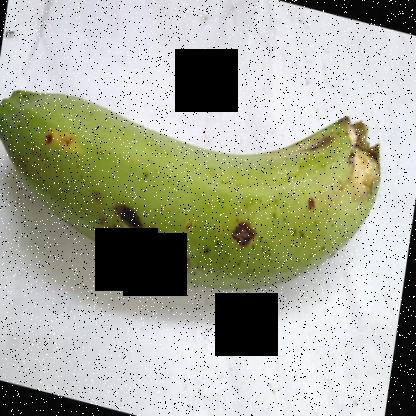rotten: (101, 184, 158, 256), (219, 196, 276, 261)
unripe: (1, 54, 359, 314)
